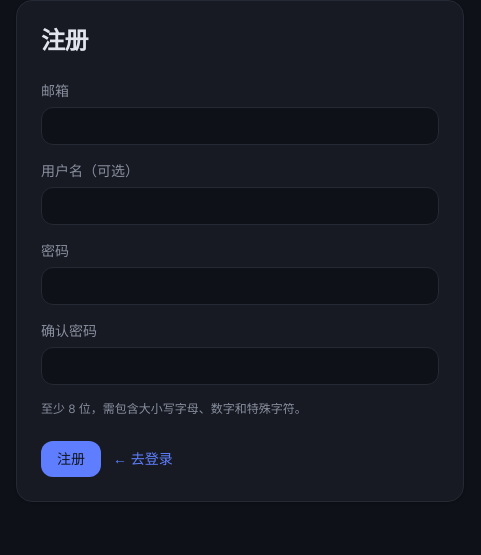
Test: AuthForm › renders register fields and validates mismatch
The width and height of the screenshot is (481, 555).
Type "user@ex.com" into the field labelled "邮箱" at (240, 126), box [41,107,439,145]
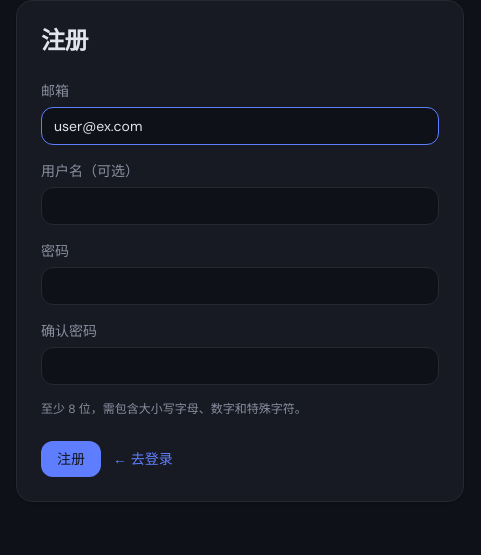
Type "alice" into the field labelled "用户名（可选）" at (240, 206), box [41,187,439,225]
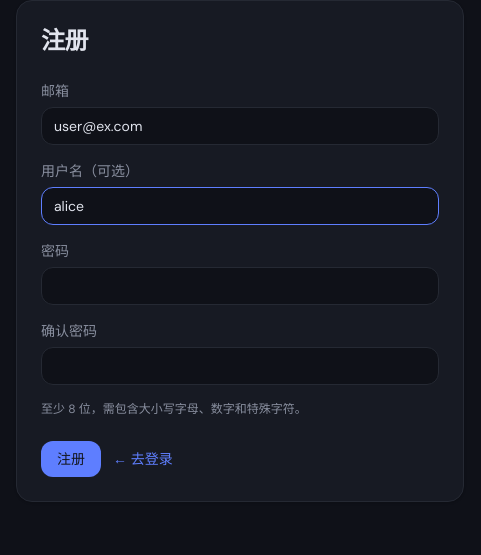
Type "GoodPass1!" into the password field labelled "密码" at (240, 286), box [41,267,439,305]
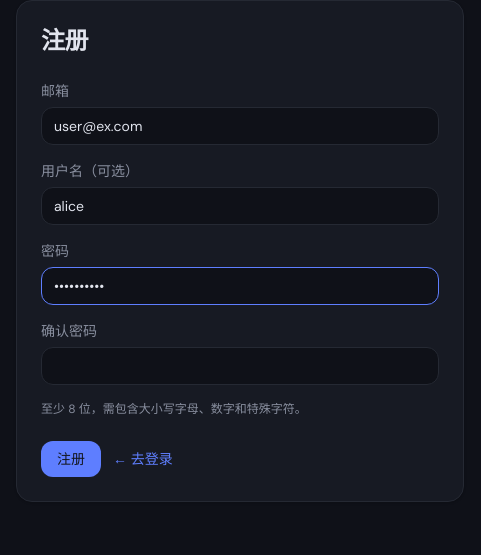
Type "GoodPass2!" into the password field labelled "确认密码" at (240, 366), box [41,347,439,385]
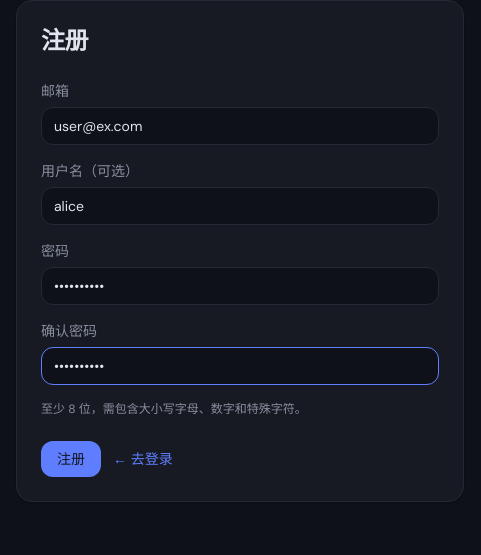
Click the button "注册" at (71, 459), box [41,441,101,477]
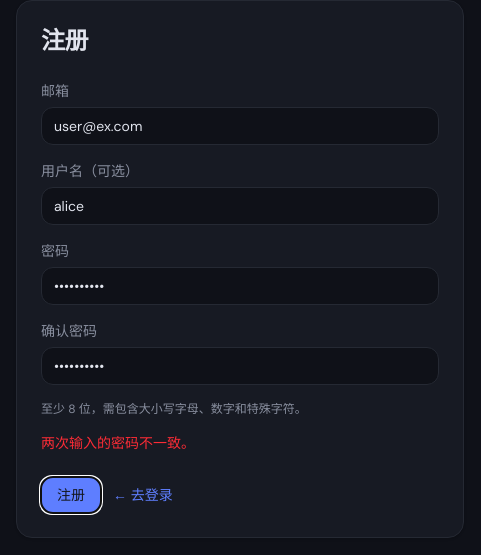
Result: the message shows "不一致" at [41,434,195,452]
